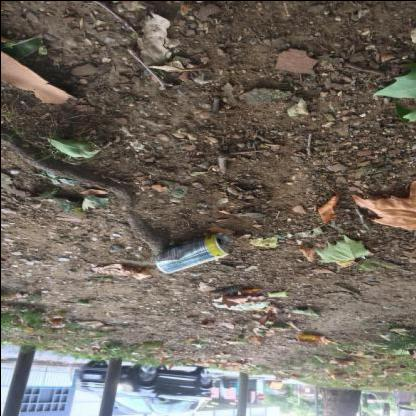Can: (154, 232, 232, 273)
Pop tab: (221, 239, 232, 248)
